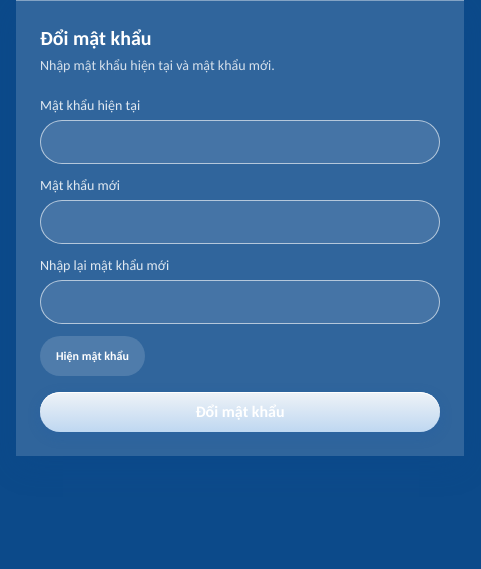
Test case: ChangePasswordPage — validate (P3-T7) › mật khẩu hiện tại rỗng → báo lỗi, không gọi API
Step 1. Click the button "Đổi mật khẩu" → (240, 412), box x1=40 y1=392 x2=440 y2=432
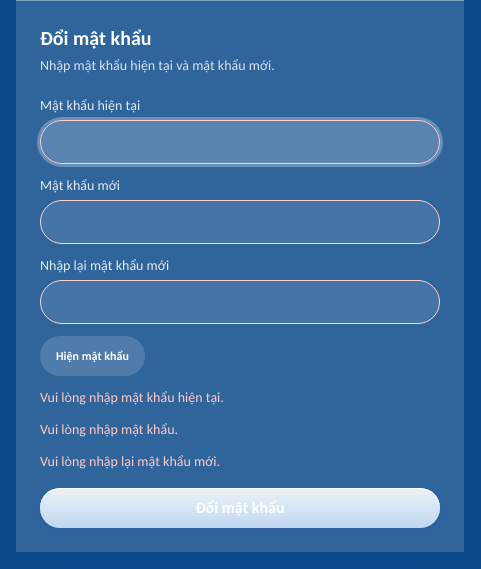
Now the message "Vui lòng nhập mật khẩu hiện tại." is shown, box x1=40 y1=389 x2=224 y2=406
